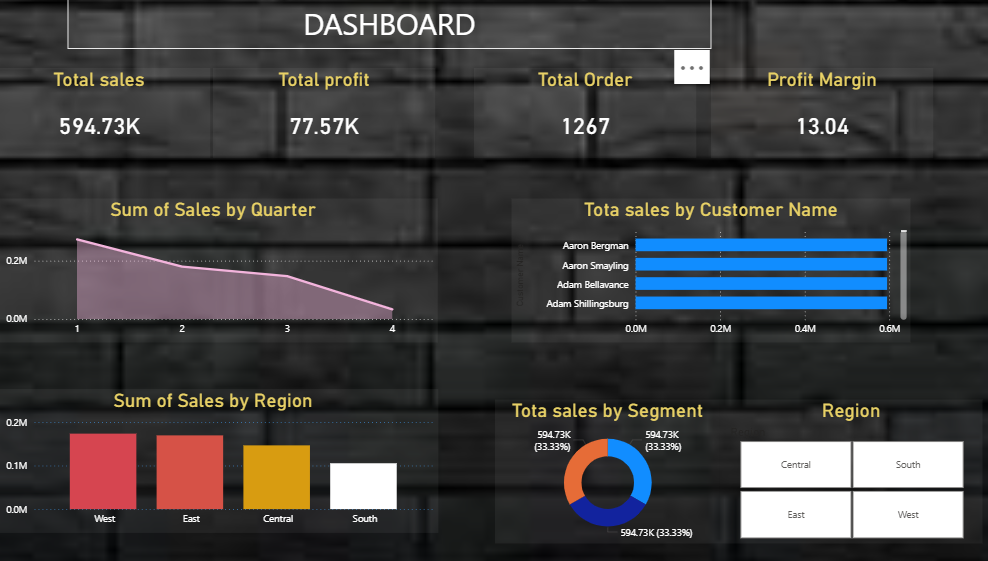

What the dashboard file says about the page in this screenshot:
{"tool":"powerbi","page":{"name":"Page 1","canvas":[1280,720],"ordinal":0},"visuals":[{"type":"card","title":"Total sales","fields":{"Values":["Customer Dimention.Tota sales"]},"box":[0,86.9,279.7,113.4],"z":0},{"type":"card","title":"Profit Margin","fields":{"Values":["Customer Dimention.Profit margin"]},"box":[910.9,86.9,279.7,113.4],"z":1000},{"type":"card","title":"Total Order","fields":{"Values":["Customer Dimention.Total orders"]},"box":[612.3,86.9,279.7,113.4],"z":2000},{"type":"card","title":"Total profit","fields":{"Values":["Customer Dimention.Total profit"]},"box":[283.5,86.9,279.7,113.4],"z":3000},{"type":"lineChart","fields":{"Y":["Sum(Sample - Superstore.Sales)"],"Category":["Sample - Superstore.Quarter"]},"box":[0,251.3,566.9,181.4],"z":4000},{"type":"columnChart","fields":{"Y":["Sum(Fact Entity.Sales)"],"Category":["Fact Entity.Region"]},"box":[0,491.5,567,181],"z":5000},{"type":"donutChart","fields":{"Category":["Sample - Superstore.Segment"],"Y":["Customer Dimention.Tota sales"]},"box":[638.7,504.6,283.5,181.4],"z":6000},{"type":"clusteredBarChart","fields":{"Y":["Customer Dimention.Tota sales"],"Category":["Sample - Superstore.Customer Name"]},"box":[659.5,251.3,502.7,181.4],"z":7000},{"type":"slicer","title":"Region","fields":{"Values":["Sample - Superstore.Region"]},"box":[922.2,504.6,330.7,181.4],"z":8000},{"type":"textbox","box":[100.2,0,810.7,62.4],"z":8001}]}

Visuals, with their boxes in screenshot pixels (x1, y1, x2, y2), scaled from the page's 1280x720 canvas onto the 988x561 screenshot:
"Total sales" card: <region>0, 68, 216, 156</region>
"Profit Margin" card: <region>703, 68, 919, 156</region>
"Total Order" card: <region>473, 68, 689, 156</region>
"Total profit" card: <region>219, 68, 435, 156</region>
lineChart - Sum(Sample - Superstore.Sales) x Sample - Superstore.Quarter: <region>0, 196, 438, 337</region>
columnChart - Sum(Fact Entity.Sales) x Fact Entity.Region: <region>0, 383, 438, 524</region>
donutChart - Sample - Superstore.Segment x Customer Dimention.Tota sales: <region>493, 393, 712, 535</region>
clusteredBarChart - Customer Dimention.Tota sales x Sample - Superstore.Customer Name: <region>509, 196, 897, 337</region>
"Region" slicer: <region>712, 393, 967, 535</region>
textbox: <region>77, 0, 703, 49</region>
